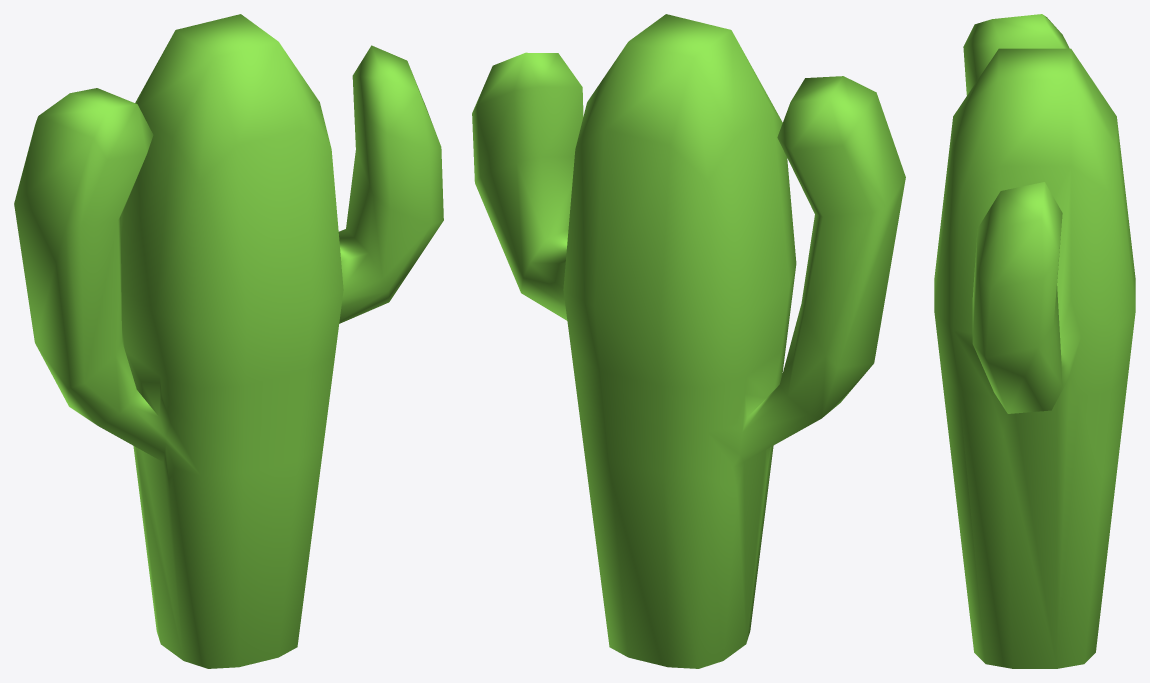
File: cactus.fbx
3 renders of one model, left to right at view 1: azimuth 30°, elevation 25°; view 2: azimuth 150°, elevation 25°; view 3: azimuth 270°, elevation 25°, orthographic. The views are drawn at different scales.
Visible parts, largest first — view 1: Cube; view 2: Cube; view 3: Cube.
Part boxes in pixels (box(x1,y1,x2,y2)): Cube: box(14, 14, 443, 668); Cube: box(472, 14, 905, 668); Cube: box(934, 14, 1135, 668).
Size of the model in its own units: 318 by 444 by 140.
